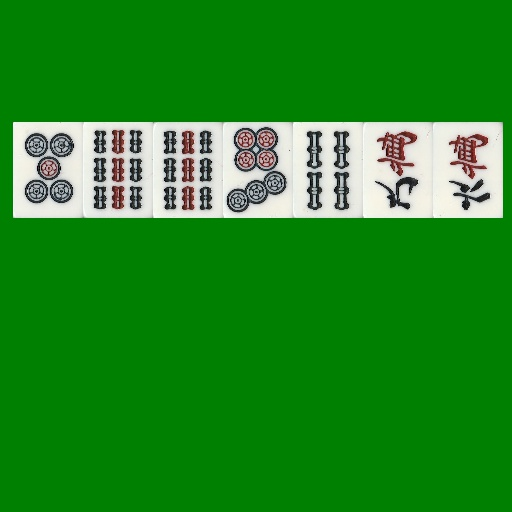4s: (293, 122, 363, 218)
5p: (13, 122, 83, 218)
6m: (433, 122, 503, 218)
7p: (223, 122, 293, 218)
9m: (363, 122, 433, 218)
9s: (83, 122, 153, 218), (153, 122, 223, 218)
